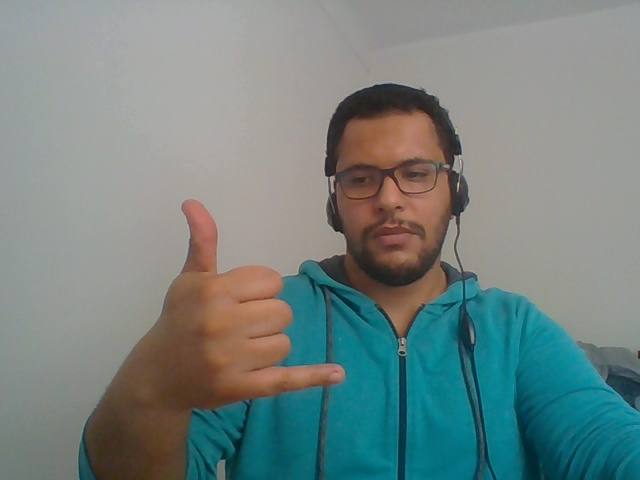callme: (119, 170, 354, 478)
